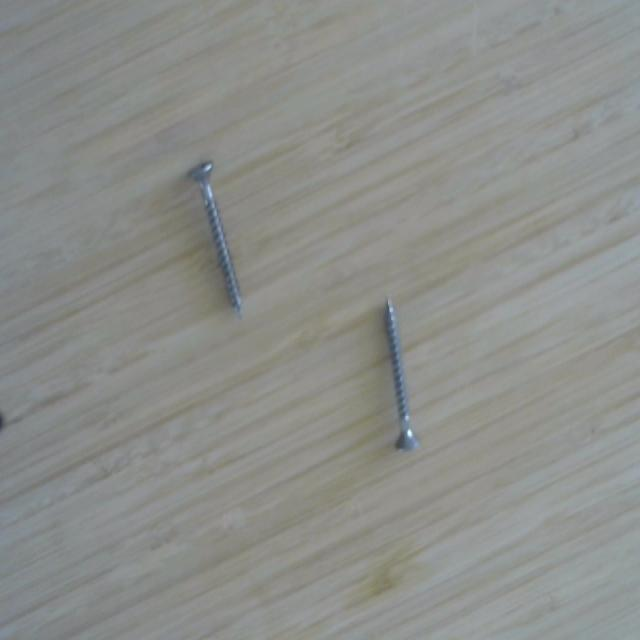Black screw: (181, 148, 259, 320), (369, 291, 423, 465)
